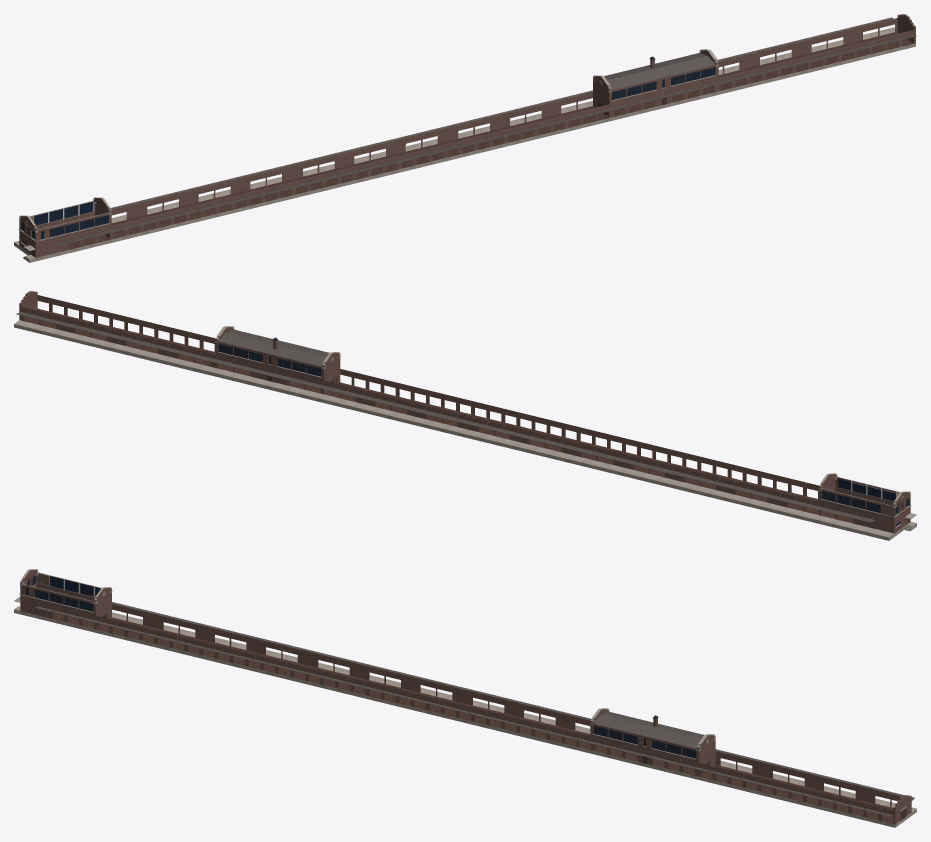
Rendered from Main_KentuckyTerminal-v2.glb.
3 views of the same model, one above another, from view 1: azimuth 30°, elevation 25°; view 2: azimuth 150°, elevation 25°; view 3: azimuth 330°, elevation 25° (orthographic).
Parts seen in each view (by area): view 1: TrainTerminal_FBX; view 2: TrainTerminal_FBX; view 3: TrainTerminal_FBX.
Part boxes in pixels (x1,y1,x2,y2): TrainTerminal_FBX: [14, 14, 916, 262]; TrainTerminal_FBX: [14, 291, 916, 540]; TrainTerminal_FBX: [14, 569, 916, 827].
Size of the model in its own units: 285 by 13.29 by 13.84.
11 materials, 11 textured.
